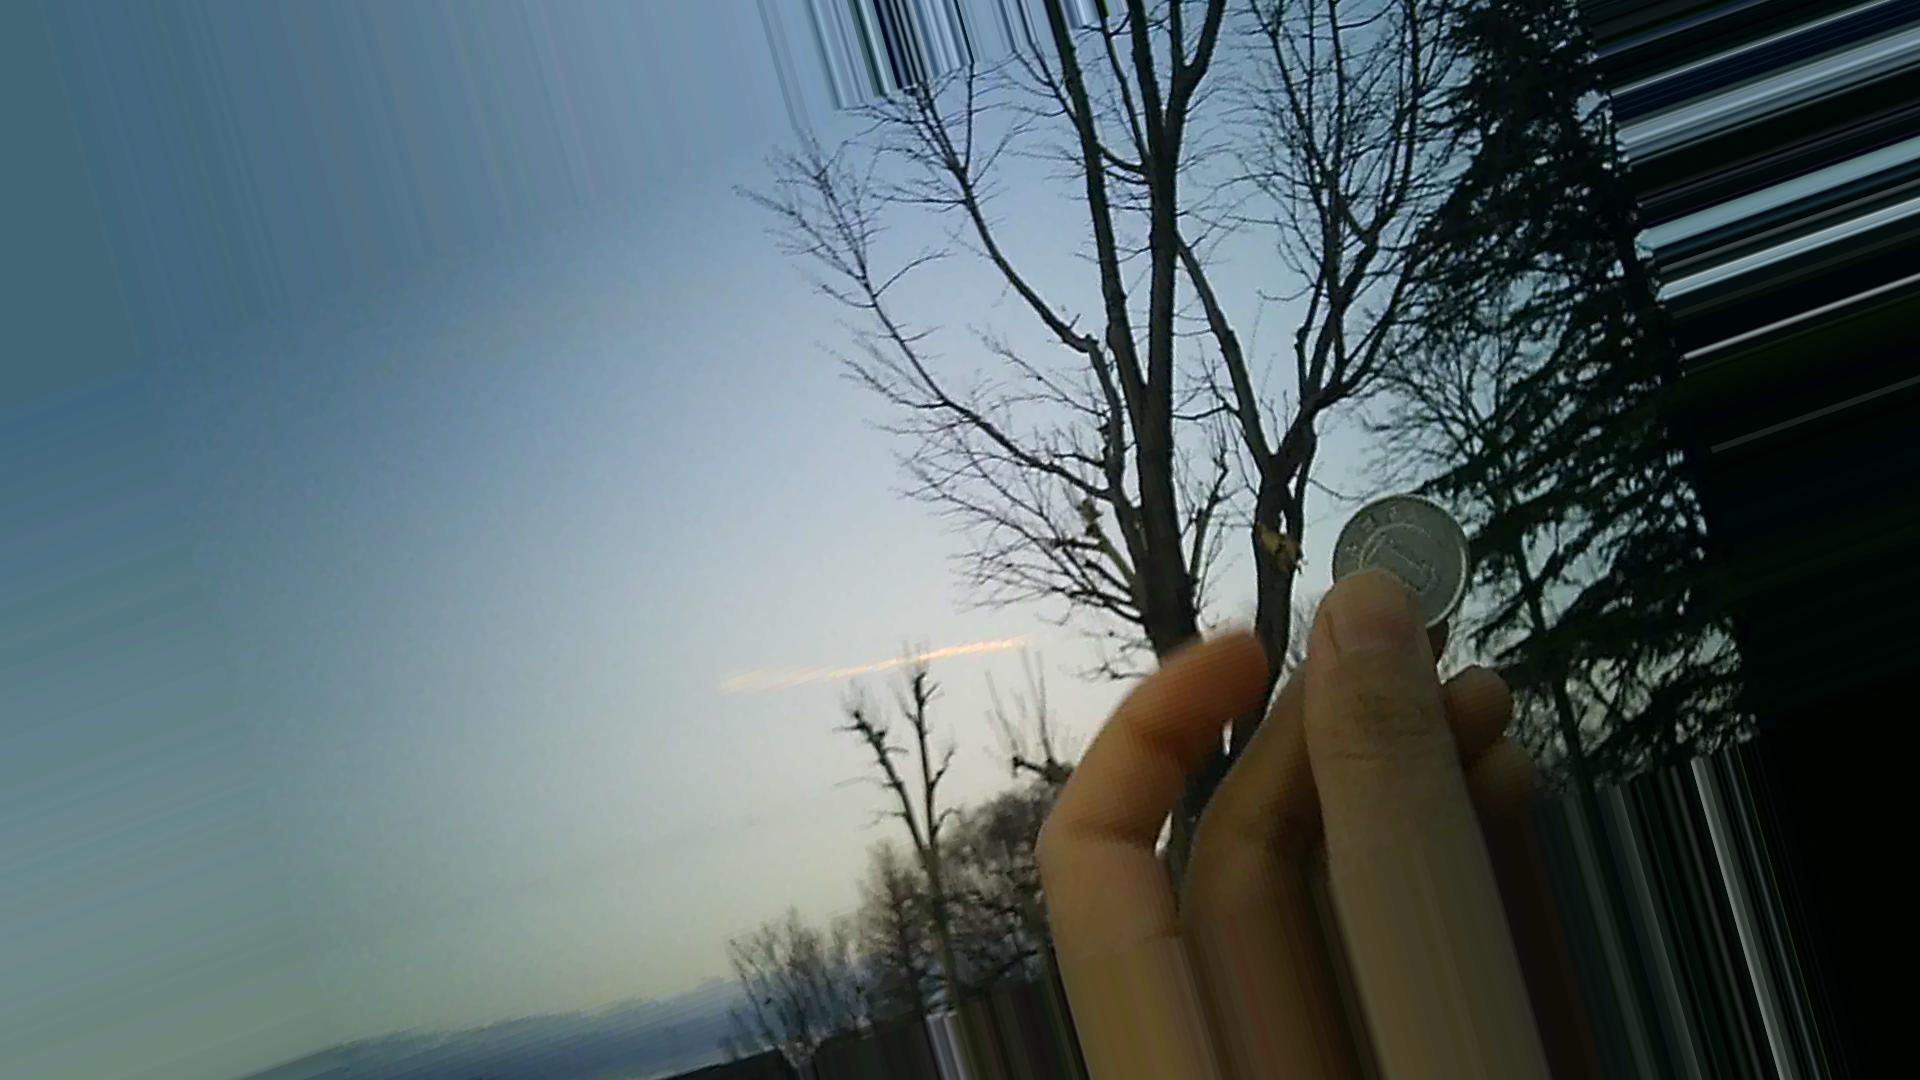1 Yen: (1333, 487, 1491, 644)
